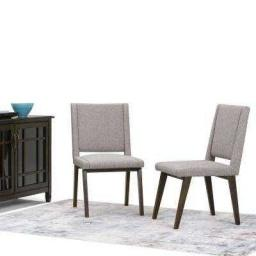Chair: (156, 106, 250, 228), (70, 103, 143, 217)
